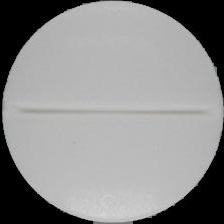16590-990: (0, 0, 224, 224)
